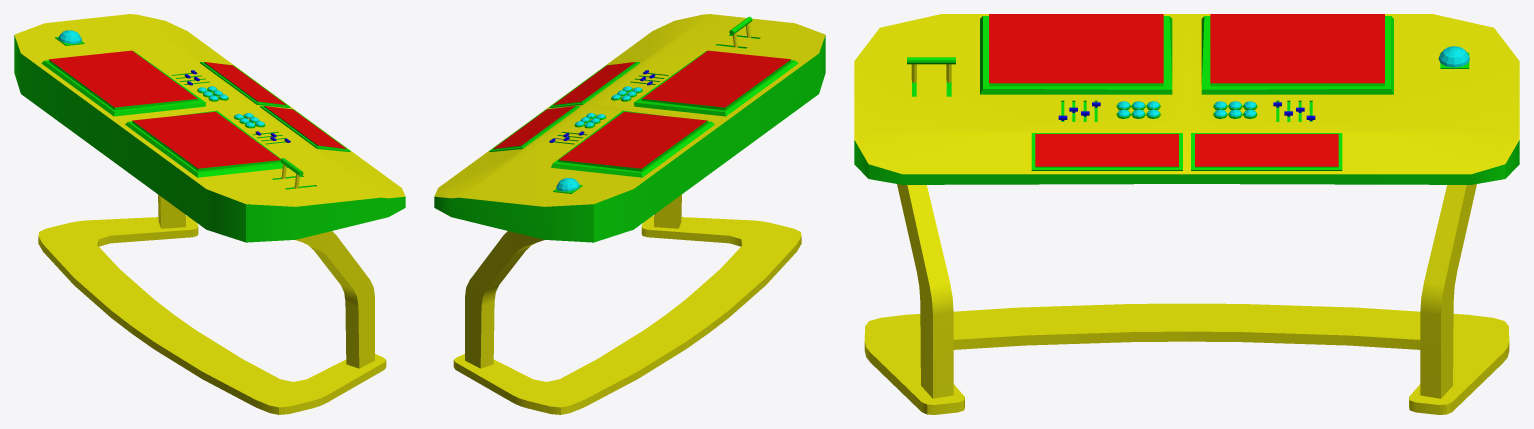
File: ControlPanelA.fbx
3 renders of one model, left to right at view 1: azimuth 30°, elevation 25°; view 2: azimuth 150°, elevation 25°; view 3: azimuth 270°, elevation 25°, orthographic. The views are drawn at different scales.
Visible parts, largest first — view 1: pCube38; view 2: pCube38; view 3: pCube38.
Part boxes in pixels (x1,y1,x2,y2): pCube38: (14,14,405,414); pCube38: (434,14,825,414); pCube38: (854,14,1519,414).
Size of the model in its own units: 2.5 by 2.96 by 6.
